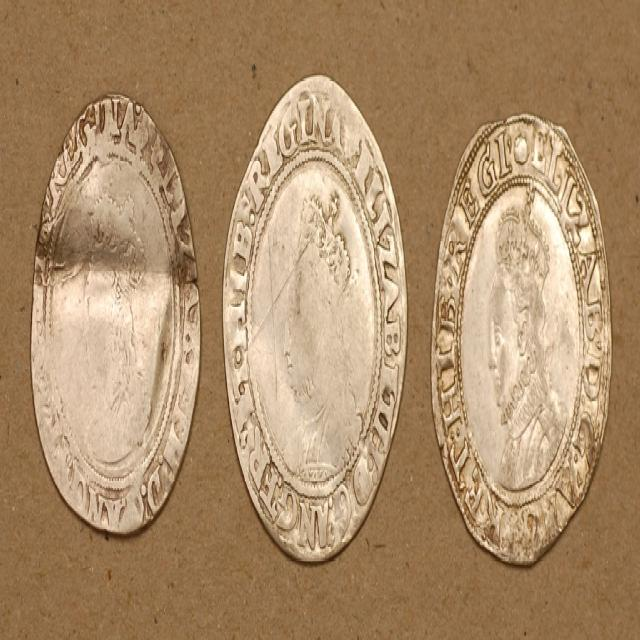Coin: (217, 67, 407, 557), (430, 110, 620, 565), (28, 88, 202, 539)
